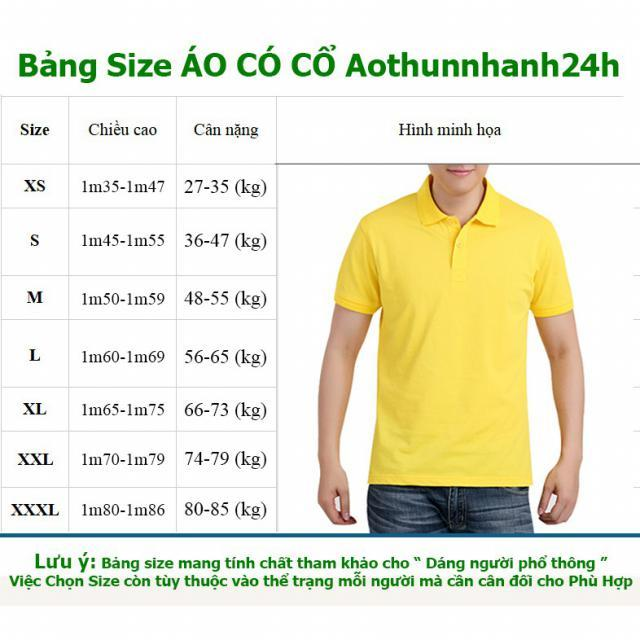Shirt: (332, 174, 584, 492)
